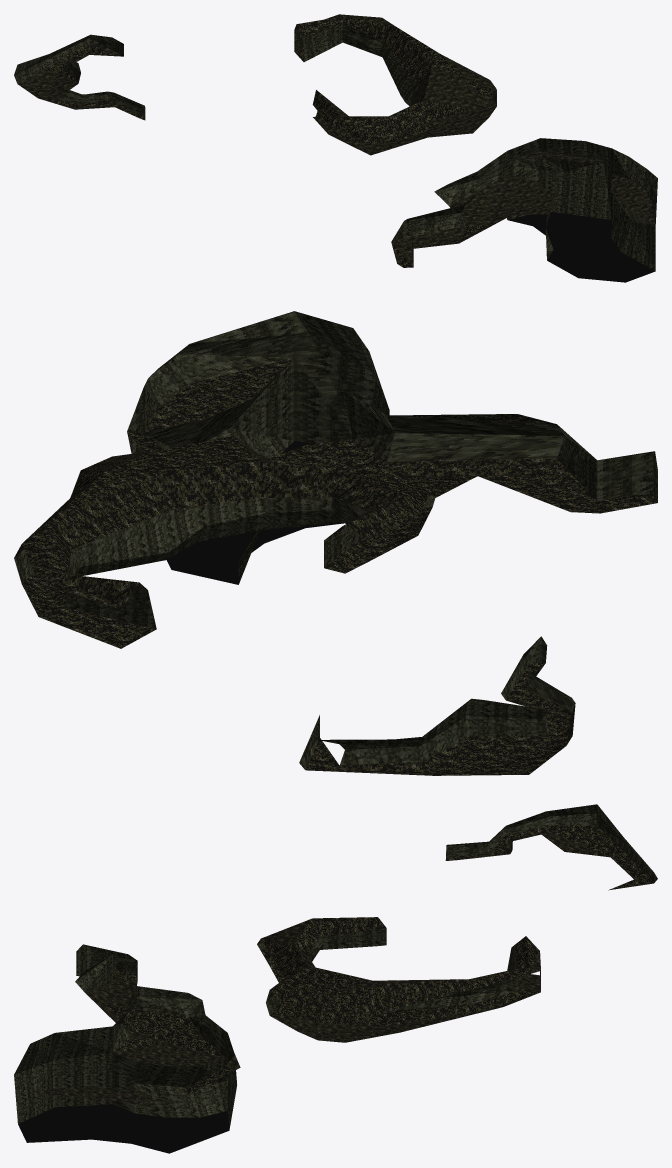
Rendered from forestcave.obj.
3 renders of one model, top to bottom at view 1: azimuth 30°, elevation 25°; view 2: azimuth 150°, elevation 25°; view 3: azimuth 270°, elevation 25°, orthographic. The views are drawn at different scales.
Visible parts, largest first — view 1: Mesh4 Group3 Model, Mesh5 Group4 Model, Mesh3 Group2 Model, Mesh11 Group7 Model, Mesh6 Group4 Model, Mesh7 Group5 Model, Mesh1 Group1 Model, Mesh9 Group6 Model, Mesh10 Group7 Model, Mesh12 Group7 Model; view 2: Mesh4 Group3 Model, Mesh5 Group4 Model, Mesh1 Group1 Model, Mesh11 Group7 Model, Mesh7 Group5 Model, Mesh9 Group6 Model, Mesh6 Group4 Model, Mesh10 Group7 Model, Mesh3 Group2 Model, Mesh13 Group7 Model; view 3: Mesh4 Group3 Model, Mesh5 Group4 Model, Mesh3 Group2 Model, Mesh11 Group7 Model, Mesh6 Group4 Model, Mesh9 Group6 Model, Mesh7 Group5 Model, Mesh1 Group1 Model, Mesh10 Group7 Model, Mesh12 Group7 Model.
Boxes of the visible parts, x1=… form: Mesh4 Group3 Model: x1=391, y1=138, x2=657, y2=270; Mesh5 Group4 Model: x1=294, y1=14, x2=496, y2=145; Mesh3 Group2 Model: x1=508, y1=212, x2=655, y2=282; Mesh11 Group7 Model: x1=391, y1=174, x2=553, y2=267; Mesh6 Group4 Model: x1=294, y1=48, x2=496, y2=155; Mesh7 Group5 Model: x1=14, y1=34, x2=145, y2=119; Mesh1 Group1 Model: x1=304, y1=23, x2=415, y2=106; Mesh9 Group6 Model: x1=17, y1=44, x2=144, y2=120; Mesh10 Group7 Model: x1=611, y1=174, x2=655, y2=224; Mesh12 Group7 Model: x1=517, y1=151, x2=602, y2=163; Mesh4 Group3 Model: x1=127, y1=311, x2=657, y2=584; Mesh5 Group4 Model: x1=22, y1=436, x2=432, y2=609; Mesh1 Group1 Model: x1=66, y1=497, x2=370, y2=629; Mesh11 Group7 Model: x1=266, y1=439, x2=655, y2=513; Mesh7 Group5 Model: x1=299, y1=636, x2=575, y2=769; Mesh9 Group6 Model: x1=305, y1=662, x2=571, y2=775; Mesh6 Group4 Model: x1=22, y1=507, x2=432, y2=648; Mesh10 Group7 Model: x1=144, y1=357, x2=293, y2=432; Mesh3 Group2 Model: x1=166, y1=440, x2=343, y2=584; Mesh13 Group7 Model: x1=388, y1=414, x2=654, y2=459; Mesh4 Group3 Model: x1=14, y1=944, x2=236, y2=1129; Mesh5 Group4 Model: x1=261, y1=917, x2=540, y2=1025; Mesh3 Group2 Model: x1=18, y1=1104, x2=229, y2=1153; Mesh11 Group7 Model: x1=77, y1=970, x2=227, y2=1066; Mesh6 Group4 Model: x1=261, y1=945, x2=540, y2=1042; Mesh9 Group6 Model: x1=446, y1=825, x2=653, y2=890; Mesh7 Group5 Model: x1=445, y1=804, x2=657, y2=882; Mesh1 Group1 Model: x1=307, y1=928, x2=519, y2=1010; Mesh10 Group7 Model: x1=28, y1=1088, x2=167, y2=1101; Mesh12 Group7 Model: x1=186, y1=1054, x2=240, y2=1093.
Size of the model in its own units: 9.76 by 2.73 by 11.53.
3 materials, 3 textured.
